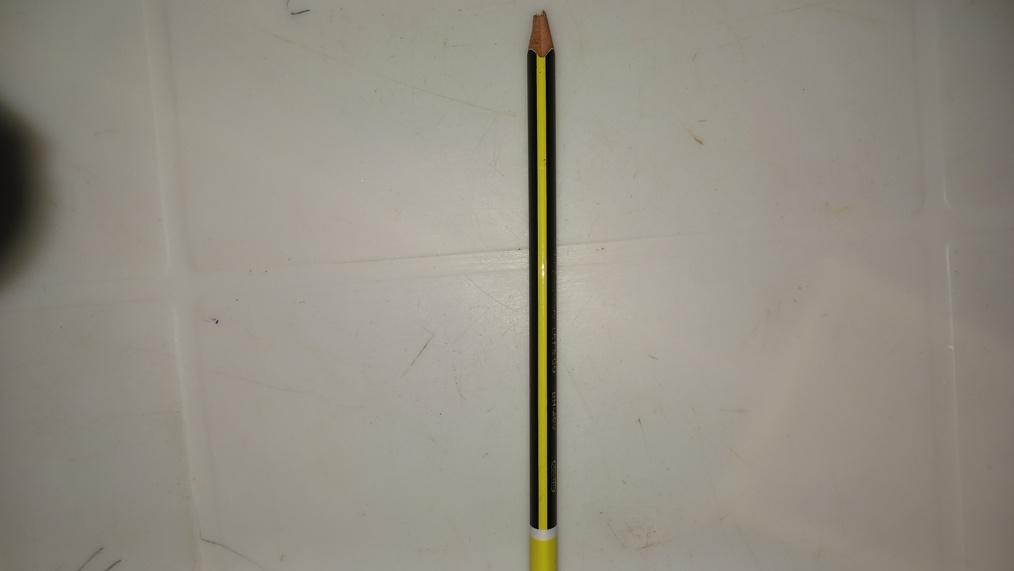Pencil: (528, 3, 556, 571)
